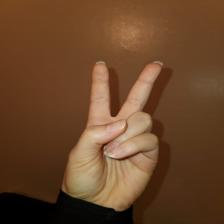two: (67, 60, 166, 203)
